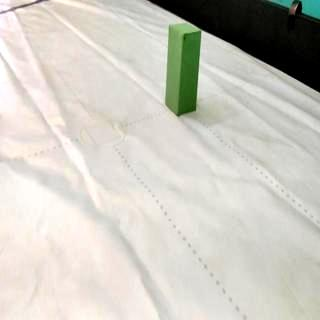greenbox: (164, 21, 202, 118)
